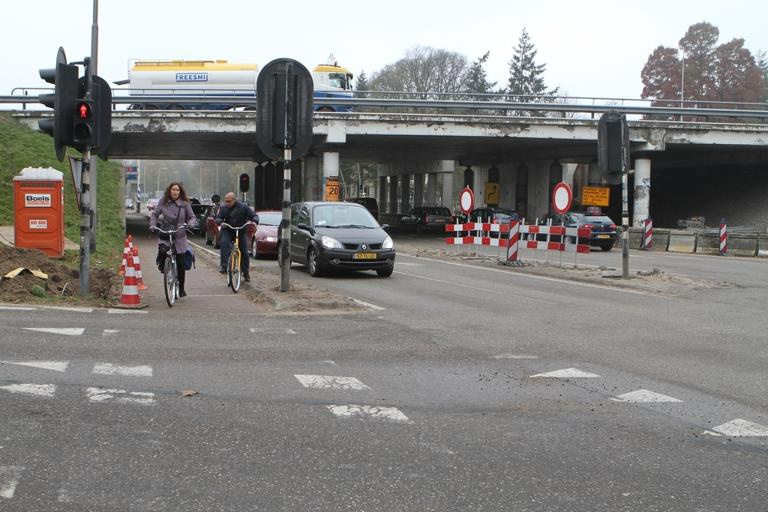non-vehicle: (149, 222, 201, 307), (219, 220, 254, 293)
